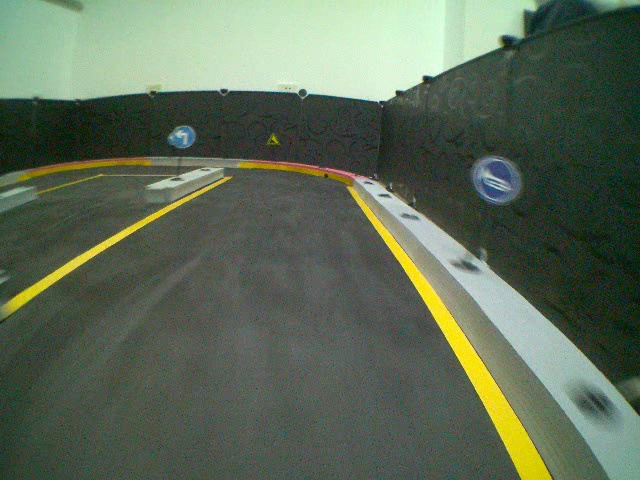fast: (266, 133, 280, 146)
horn: (469, 153, 526, 205)
turn: (170, 125, 195, 149)
